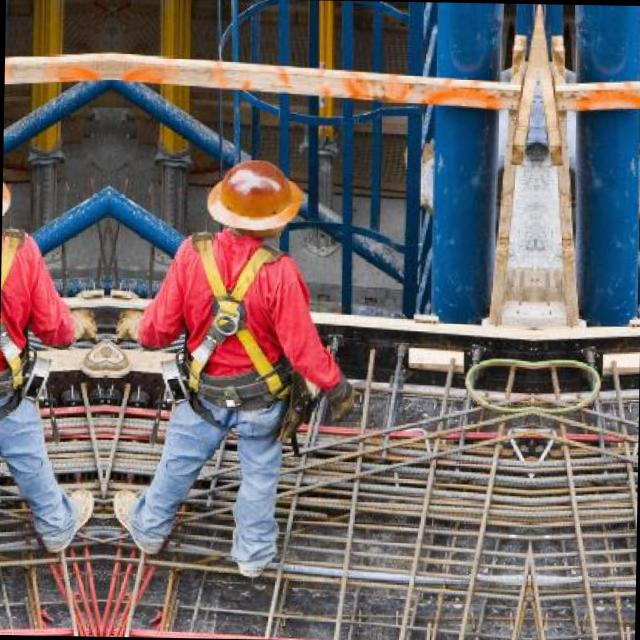helmet: (189, 150, 307, 276), (1, 146, 28, 272)
